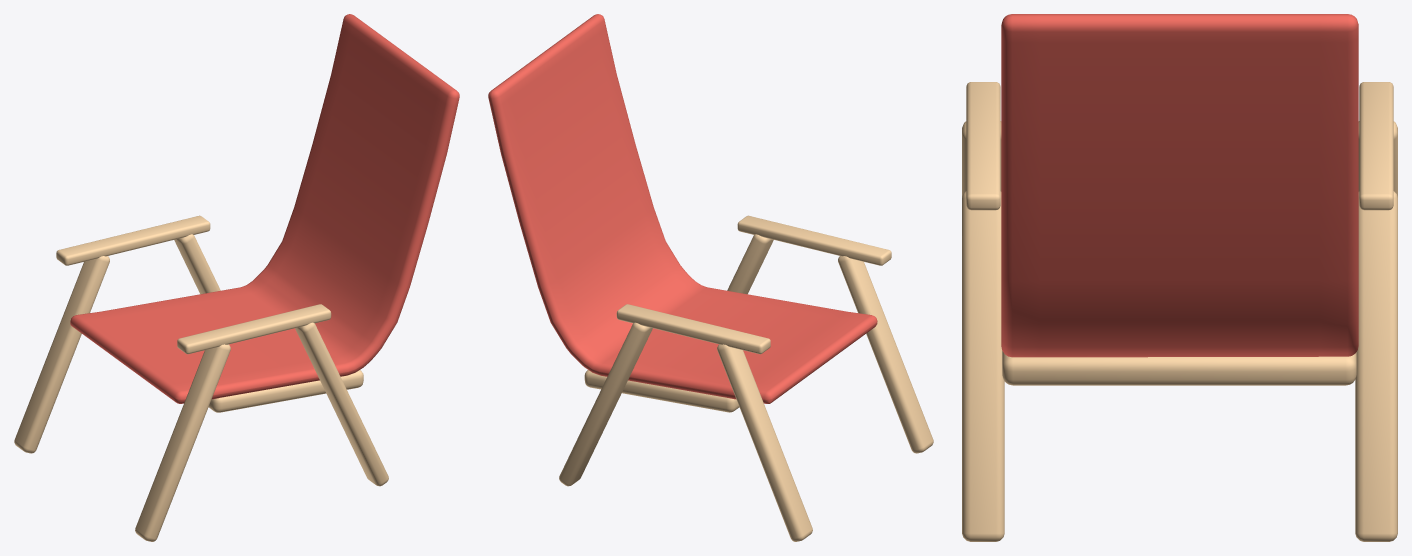
The model's file is Balcony Armchair01.fbx.
3 views of the same model, side by side, from view 1: azimuth 30°, elevation 25°; view 2: azimuth 150°, elevation 25°; view 3: azimuth 270°, elevation 25° (orthographic). The views are drawn at different scales.
Visible parts, largest first — view 1: Balcony Armchair01; view 2: Balcony Armchair01; view 3: Balcony Armchair01.
Part boxes in pixels (<box>): Balcony Armchair01: <box>14,14,459,541</box>; Balcony Armchair01: <box>488,14,933,541</box>; Balcony Armchair01: <box>962,14,1397,541</box>.
Bounding box in the file's own units: 0.5247 × 0.3711 × 0.5586.
